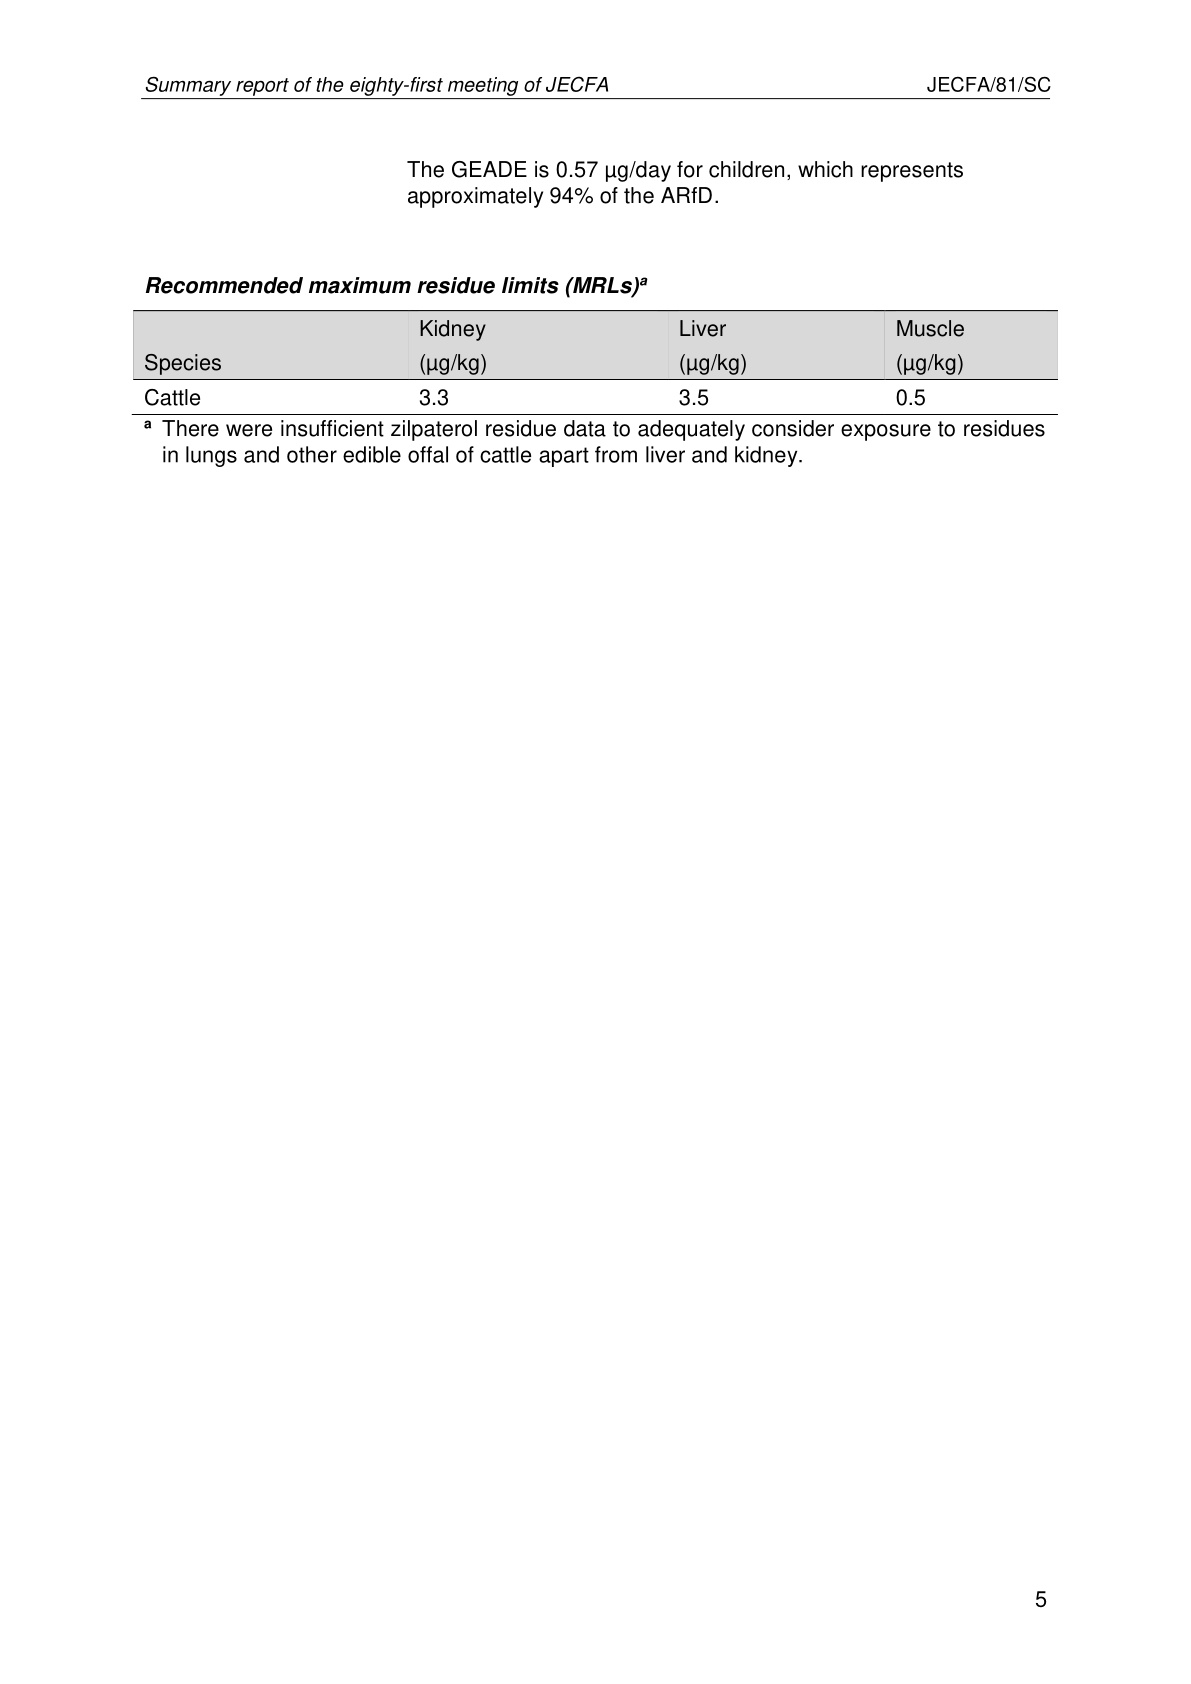partial_lined: (130, 311, 1060, 416)
